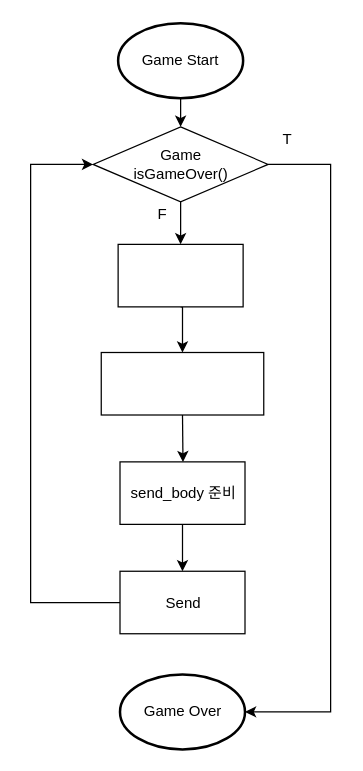
The diagram is 363 pixels wide and 771 high, and some of its shapes have lost their labels. The shapes that lost their labels are listed below. From the top down, each one's centre as x and y in pixels, then its label:
At point 180,275: "Listen".
At point 182,383: "Game updatePlayerInfo()".
